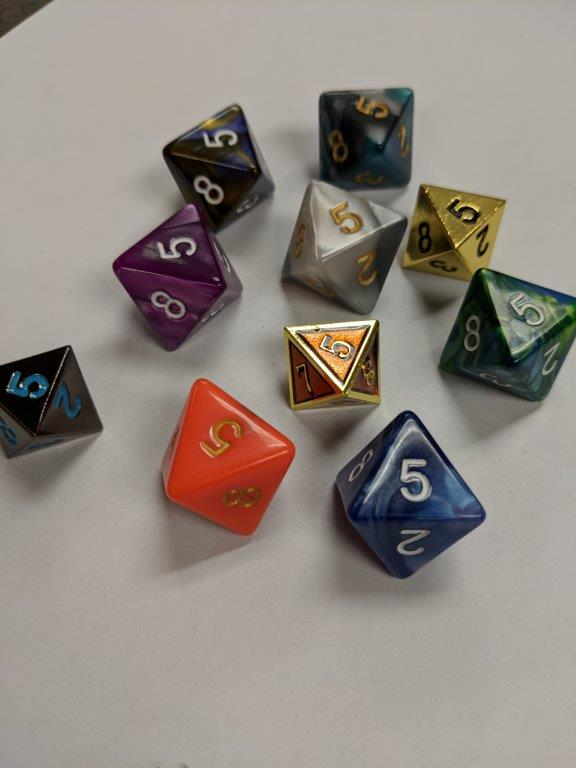d8-5: (334, 411, 488, 580), (160, 374, 296, 540), (108, 204, 242, 357), (432, 268, 575, 404), (271, 177, 407, 317), (162, 103, 277, 227), (1, 344, 104, 463), (317, 90, 417, 189), (404, 182, 501, 283), (286, 320, 381, 409)
